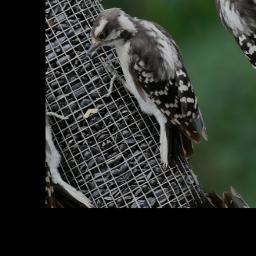Woodpecker: (70, 0, 228, 186)
